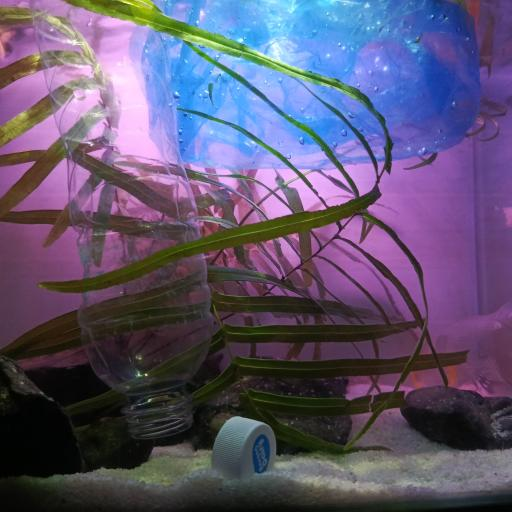bottle_cap: (212, 416, 277, 477)
plastic_bag: (133, 0, 482, 169)
plastic_bottle: (31, 0, 215, 434), (406, 304, 512, 392)
